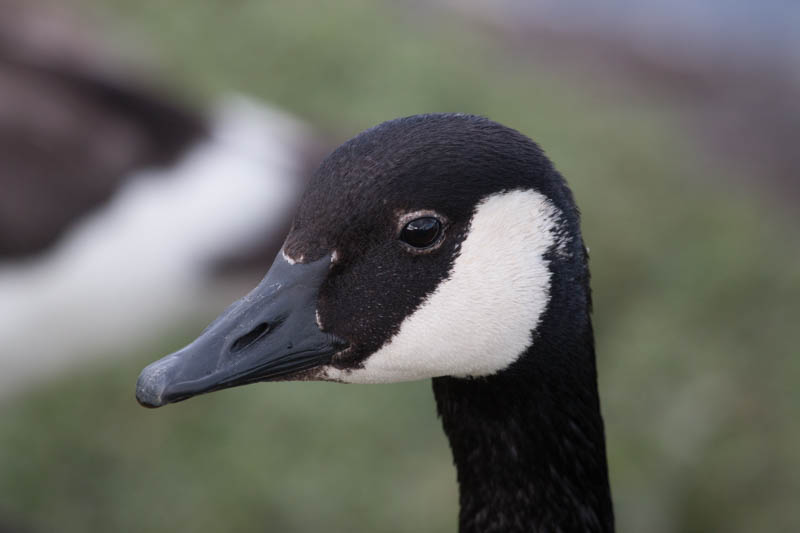goose-head: (133, 114, 592, 407)
